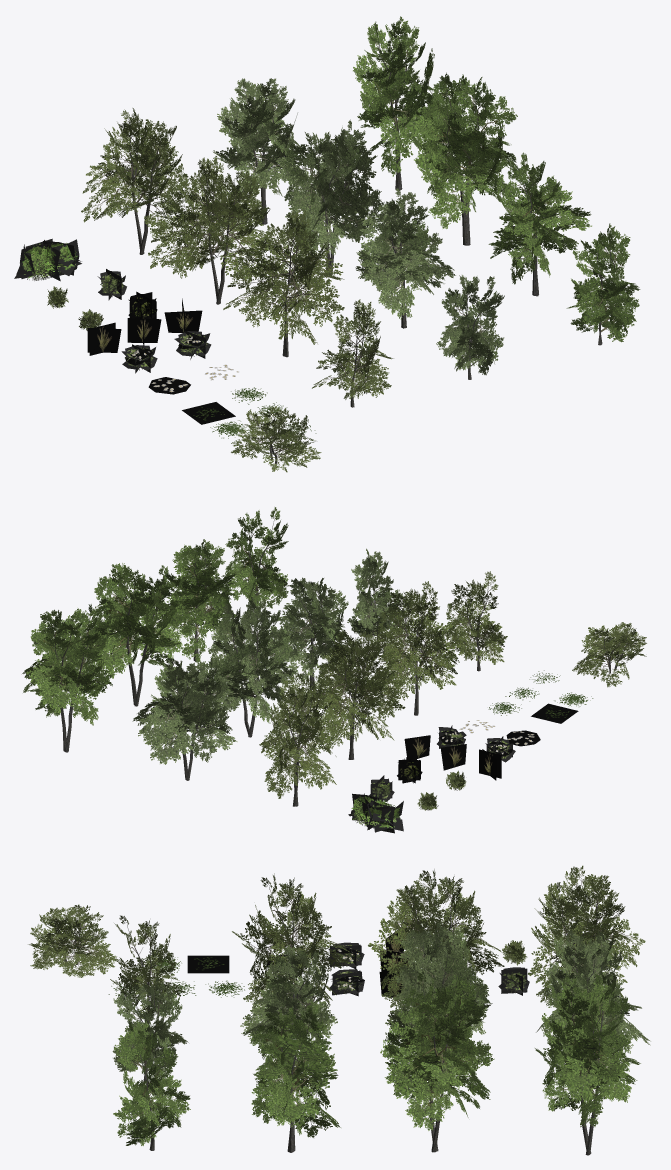
File: shapesparkLowPolyExteriorPlantsKit_edit_for_FBX.fbx
3 renders of one model, top to bottom at view 1: azimuth 30°, elevation 25°; view 2: azimuth 150°, elevation 25°; view 3: azimuth 270°, elevation 25°, orthographic. The views are drawn at different scales.
Visible parts, largest first — view 1: tree11, tree03, tree07, tree04, tree10, tree02, tree08, tree12, tree06, tree13, tree09, tree05 (+9 smaller); view 2: tree11, tree06, tree10, tree07, tree03, tree04, tree02, tree12, tree08, tree13, tree05, tree09 (+9 smaller); view 3: tree11, tree10, tree12, tree03, tree02, tree04, tree13, tree07, tree06, tree08, tree01, tree09 (+6 smaller).
Boxes of the visible parts, left/top/right/bottom form: tree11: left=414, top=72, right=520, bottom=245; tree03: left=148, top=156, right=273, bottom=304; tree07: left=281, top=119, right=384, bottom=274; tree04: left=223, top=210, right=344, bottom=357; tree10: left=353, top=16, right=444, bottom=190; tree02: left=81, top=108, right=187, bottom=254; tree08: left=355, top=188, right=455, bottom=328; tree12: left=488, top=152, right=591, bottom=296; tree06: left=213, top=78, right=308, bottom=224; tree13: left=566, top=223, right=640, bottom=345; tree09: left=436, top=275, right=504, bottom=379; tree05: left=312, top=299, right=393, bottom=407; tree11: left=90, top=563, right=183, bottom=706; tree06: left=132, top=657, right=237, bottom=780; tree10: left=22, top=604, right=112, bottom=752; tree07: left=208, top=596, right=295, bottom=737; tree03: left=302, top=626, right=405, bottom=759; tree04: left=364, top=581, right=466, bottom=715; tree02: left=259, top=673, right=336, bottom=806; tree12: left=155, top=539, right=236, bottom=663; tree08: left=276, top=577, right=350, bottom=689; tree13: left=225, top=507, right=288, bottom=618; tree05: left=441, top=571, right=507, bottom=671; tree09: left=347, top=548, right=404, bottom=643; tree11: left=380, top=971, right=494, bottom=1152; tree10: left=535, top=971, right=640, bottom=1155; tree12: left=249, top=1001, right=340, bottom=1152; tree03: left=368, top=869, right=504, bottom=1009; tree02: left=528, top=865, right=645, bottom=1005; tree04: left=232, top=873, right=351, bottom=1008; tree13: left=113, top=1019, right=190, bottom=1150; tree07: left=385, top=920, right=492, bottom=1075; tree06: left=536, top=930, right=650, bottom=1085; tree08: left=240, top=945, right=337, bottom=1059; tree01: left=28, top=904, right=116, bottom=977; tree09: left=112, top=977, right=188, bottom=1081.
Bounding box in the file's own units: 2553 × 914 × 2879.
